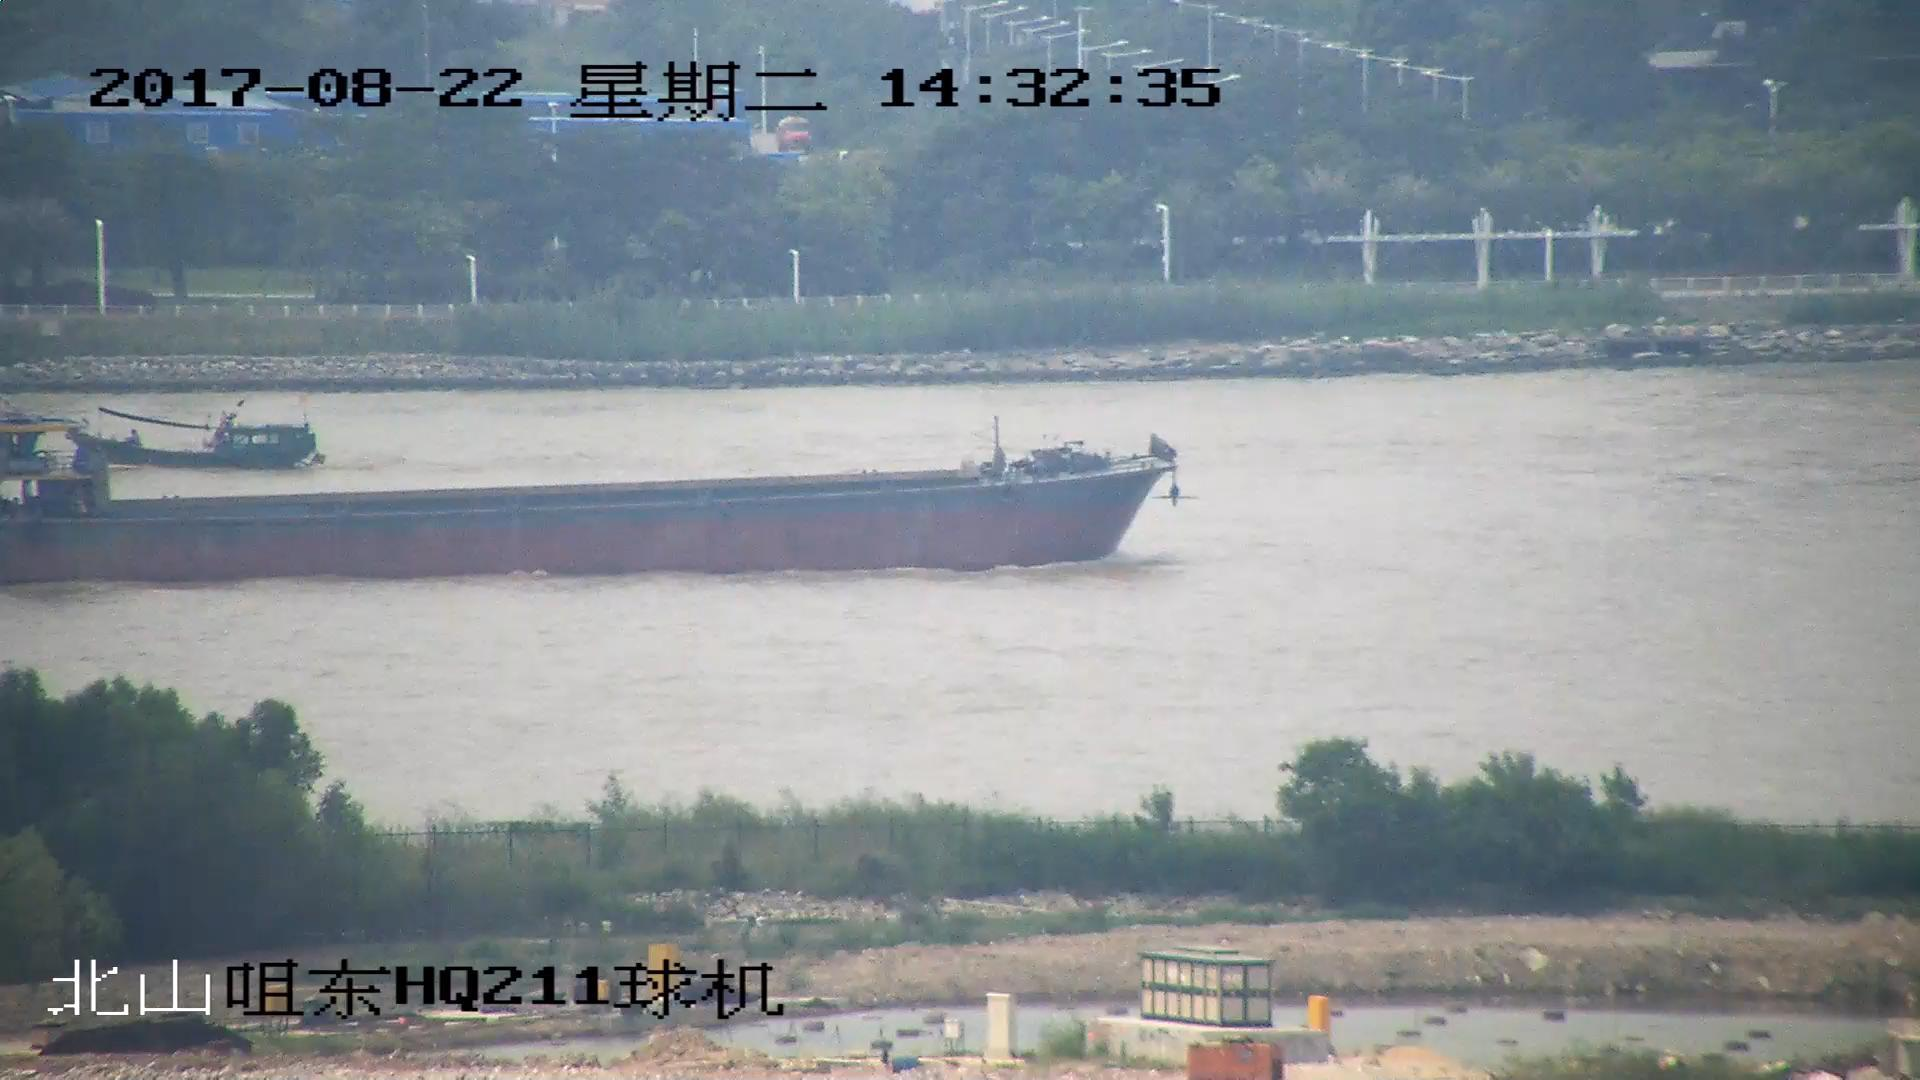Ship: (3, 400, 1179, 587), (69, 411, 328, 475)
